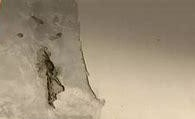Exposed reinforcement: (42, 50, 57, 108)
Spalling: (1, 1, 106, 119)
